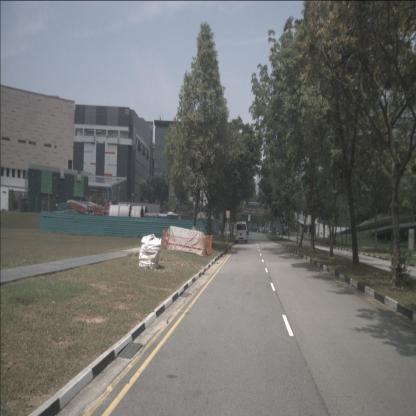vehicle-car: (236, 221, 247, 243), (282, 230, 290, 236), (274, 229, 280, 236)
